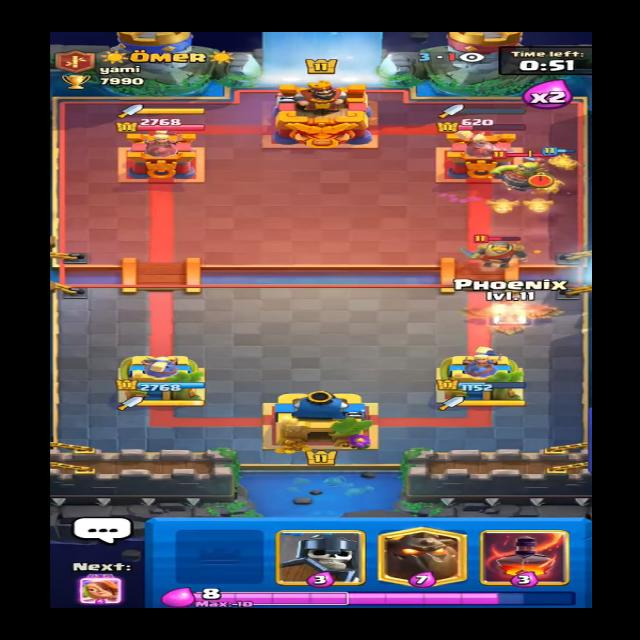Goblindemolisher: (478, 152, 558, 194)
Knight: (464, 231, 529, 272)
